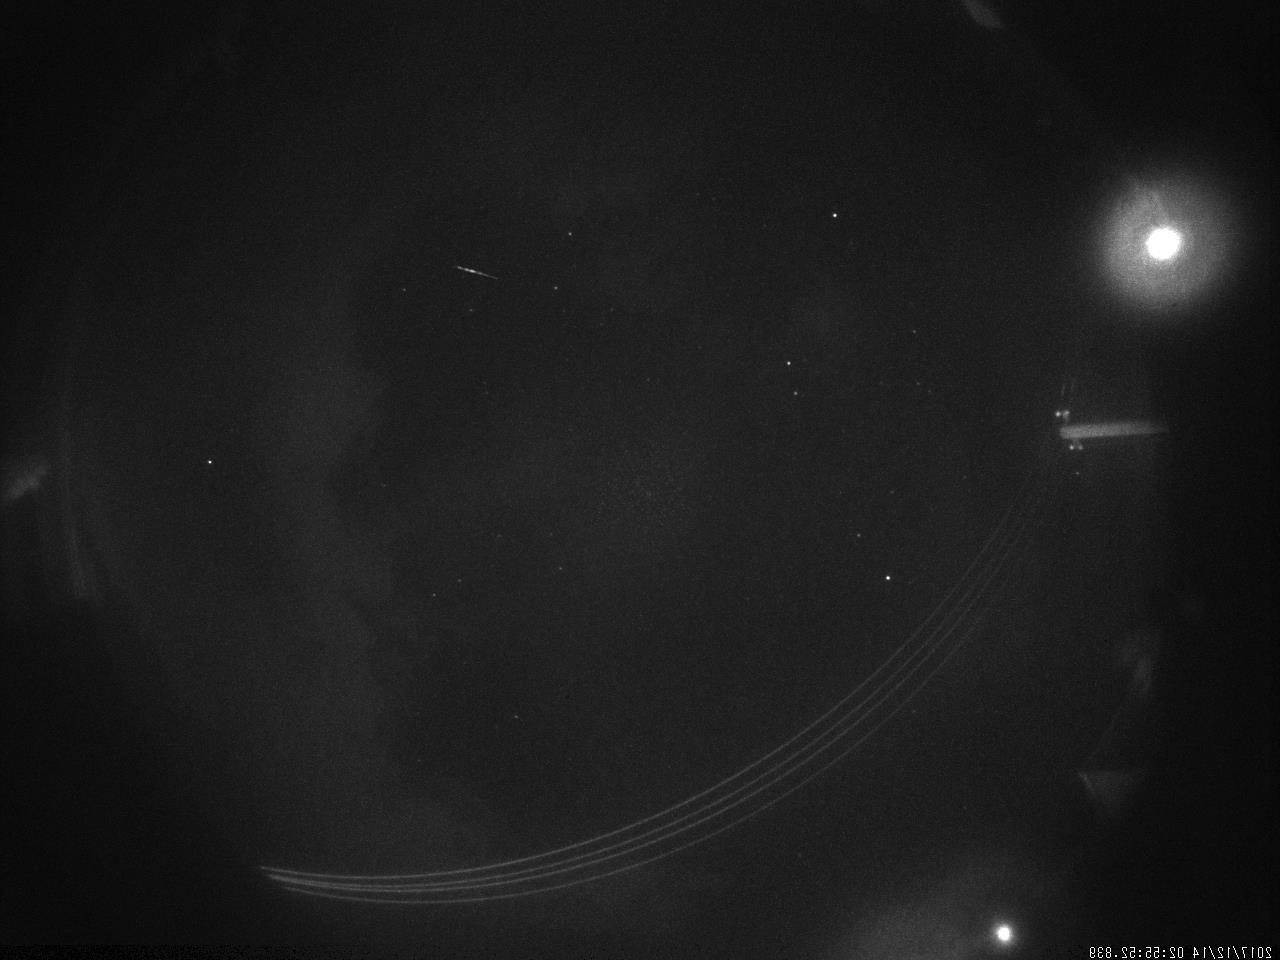meteor: (441, 251, 523, 301)
